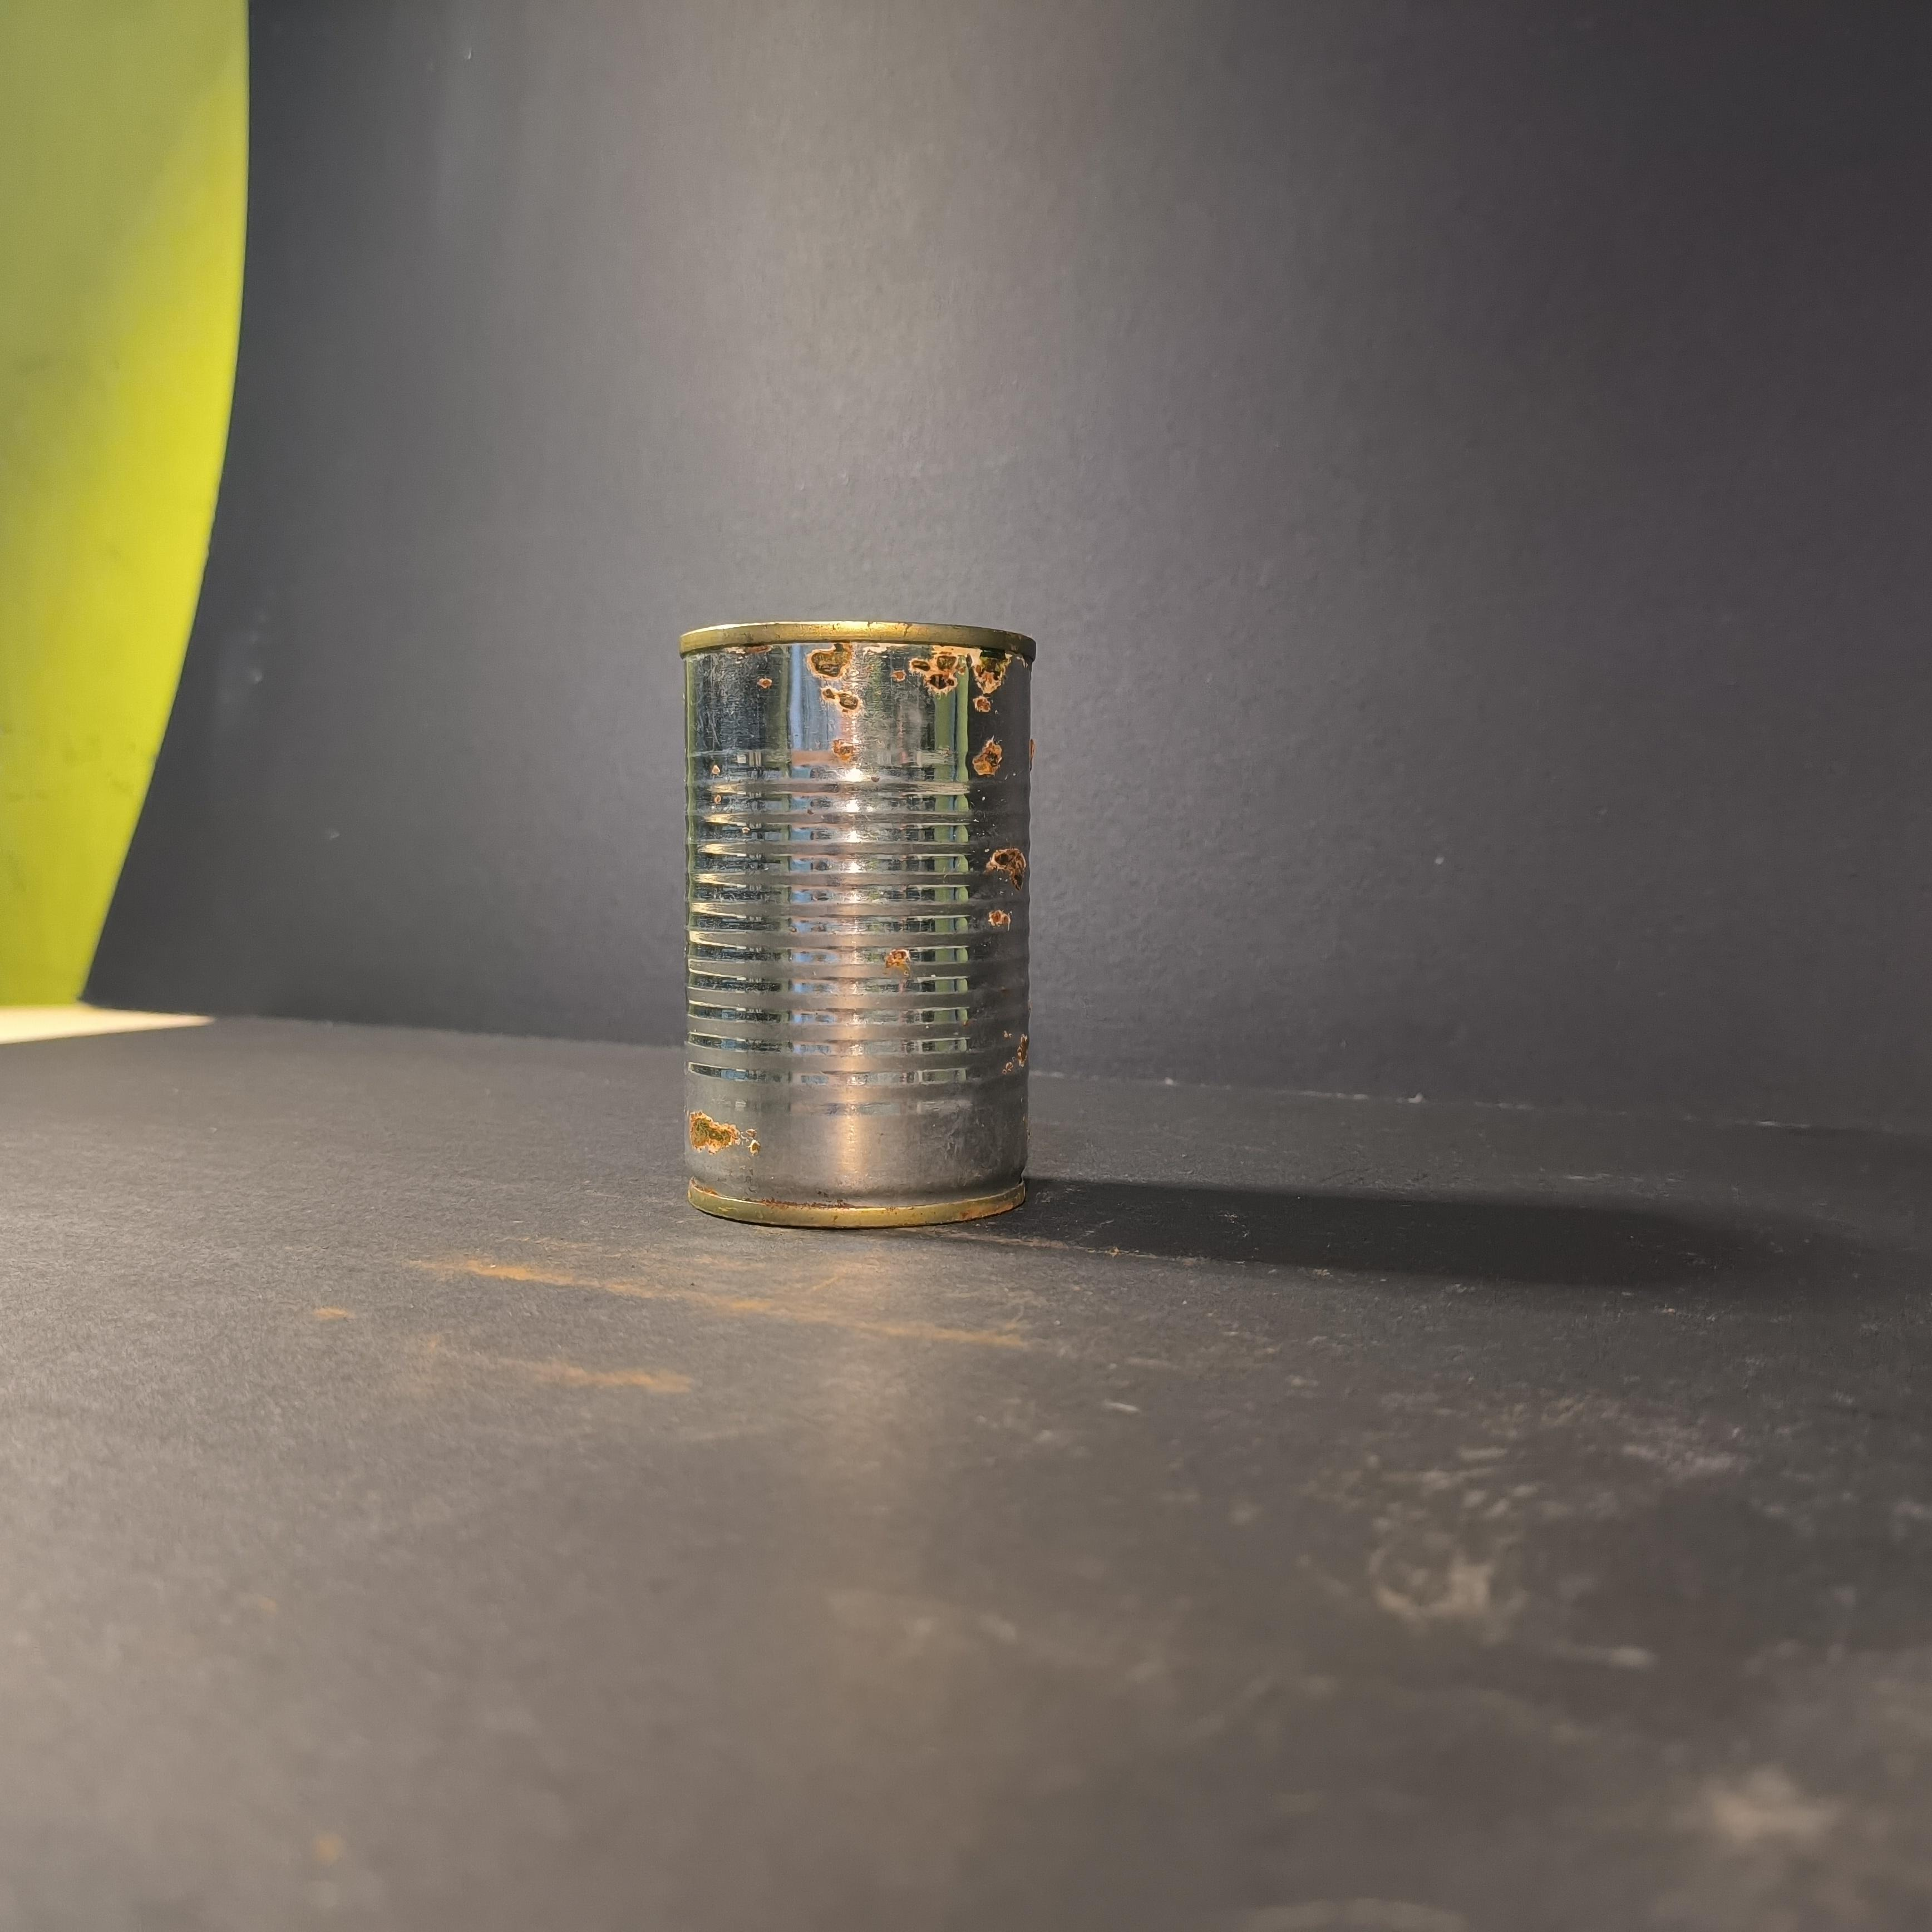Rusted: (665, 602, 1063, 1240)
